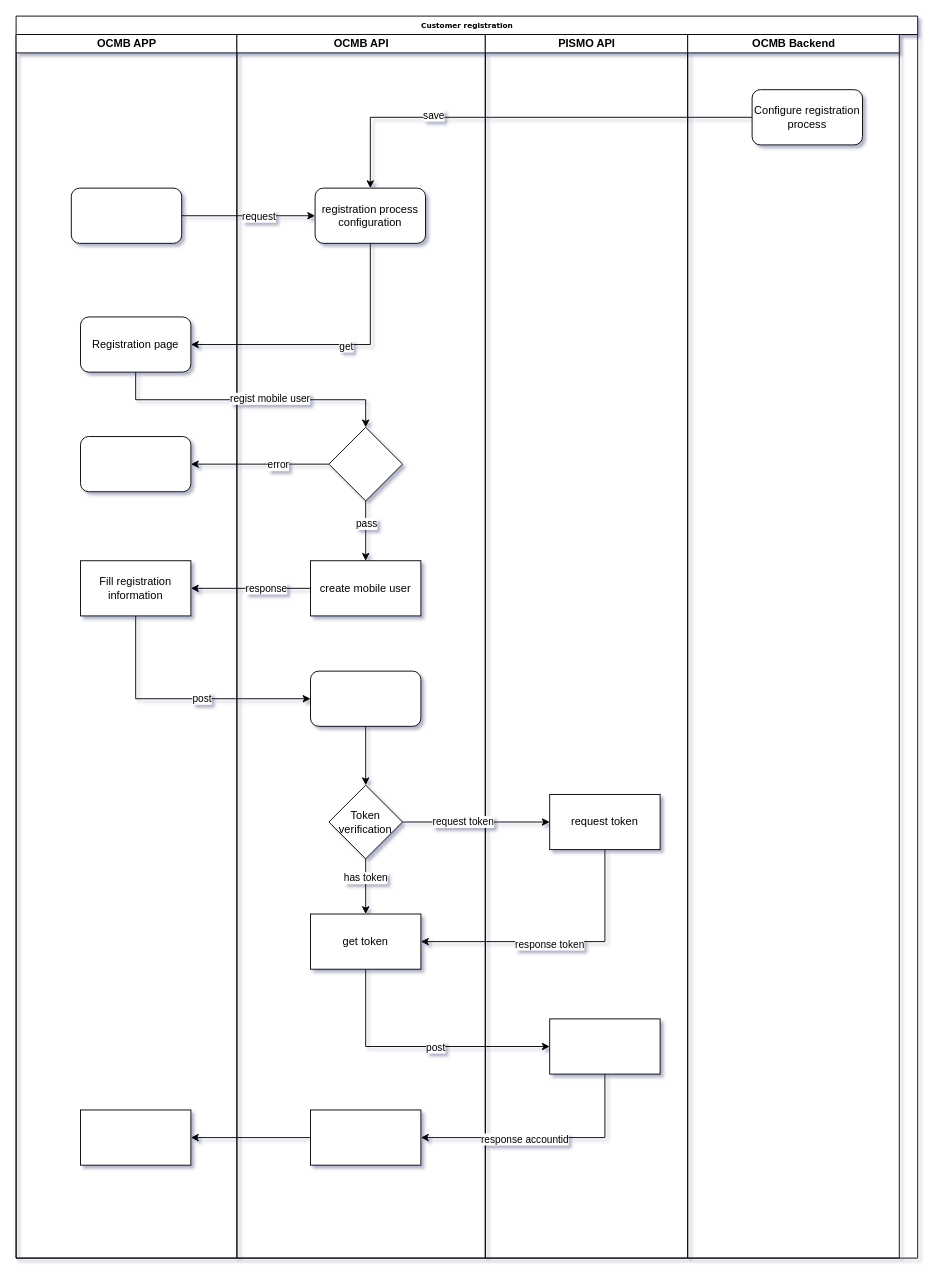
Image size: 939x1280. Some labels were removed from this diagram. Each missing label, with the centre of its shape:
"Application for registration" goes at point (126, 215).
"Check information" goes at point (365, 463).
"error message" goes at point (135, 464).
"regist account/customer" goes at point (604, 1046).
"regist account/customer successful" goes at point (135, 1137).
"save data" goes at point (365, 698).
"update user info" goes at point (365, 1137).
